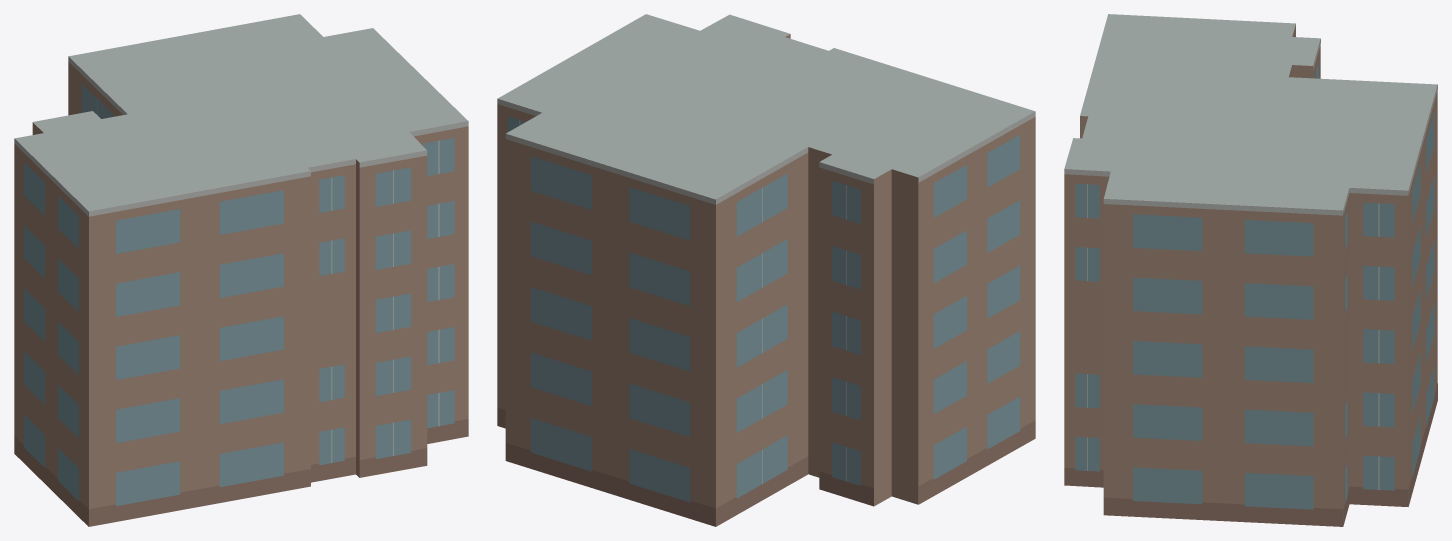
The model's file is survey-upis-33035935.glb.
3 views of the same model, side by side, from view 1: azimuth 30°, elevation 25°; view 2: azimuth 150°, elevation 25°; view 3: azimuth 270°, elevation 25° (orthographic). The views are drawn at different scales.
Visible parts, largest first — view 1: survey-upis-33035935.tmp; view 2: survey-upis-33035935.tmp; view 3: survey-upis-33035935.tmp.
Boxes of the visible parts, x1,y1,x2,y2 form: survey-upis-33035935.tmp: [14, 14, 468, 526]; survey-upis-33035935.tmp: [497, 14, 1035, 526]; survey-upis-33035935.tmp: [1064, 14, 1437, 526].
Bounding box in the file's own units: 19.86 × 14.9 × 15.95.
